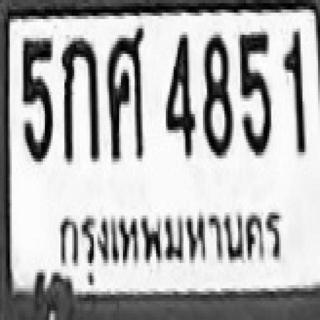A01: (61, 33, 98, 160)
A38: (106, 25, 142, 158)
N01: (281, 27, 302, 154)
N04: (164, 30, 193, 157)
N05: (19, 33, 51, 160), (238, 29, 269, 152)
N08: (200, 32, 231, 155)
P04: (46, 201, 288, 269)
